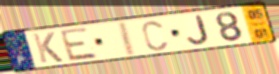8: (215, 11, 245, 43)
C: (140, 20, 169, 52)
E: (58, 26, 101, 63)
I: (118, 19, 138, 58)
J: (186, 14, 211, 46)
K: (30, 31, 65, 64)
